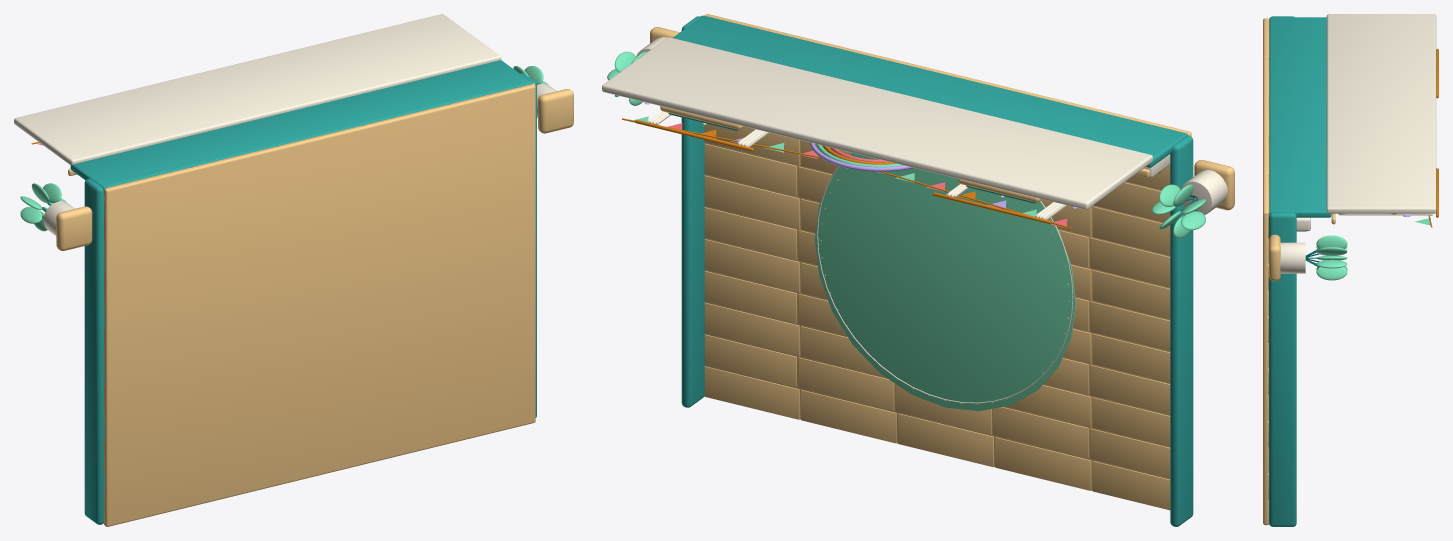
Rendered from CatchPlayroom.fbx.
3 renders of one model, left to right at view 1: azimuth 30°, elevation 25°; view 2: azimuth 150°, elevation 25°; view 3: azimuth 270°, elevation 25°, orthographic. The views are drawn at different scales.
Visible parts, largest first — view 1: CatchPlayroom; view 2: CatchPlayroom; view 3: CatchPlayroom.
Boxes of the visible parts, box(x1,y1,x2,y2) form: CatchPlayroom: box(14, 14, 573, 526); CatchPlayroom: box(602, 14, 1234, 526); CatchPlayroom: box(1263, 14, 1438, 526).
Size of the model in its own units: 9.72 by 6.08 by 3.05.
